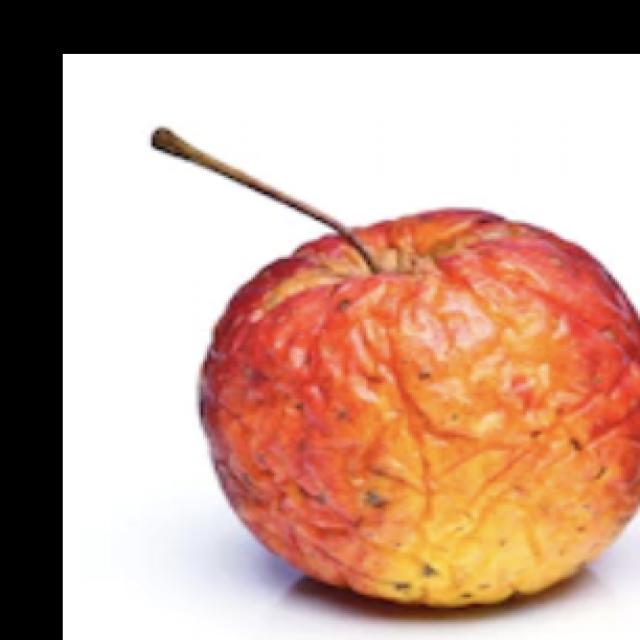Rotten: (204, 221, 628, 640)
